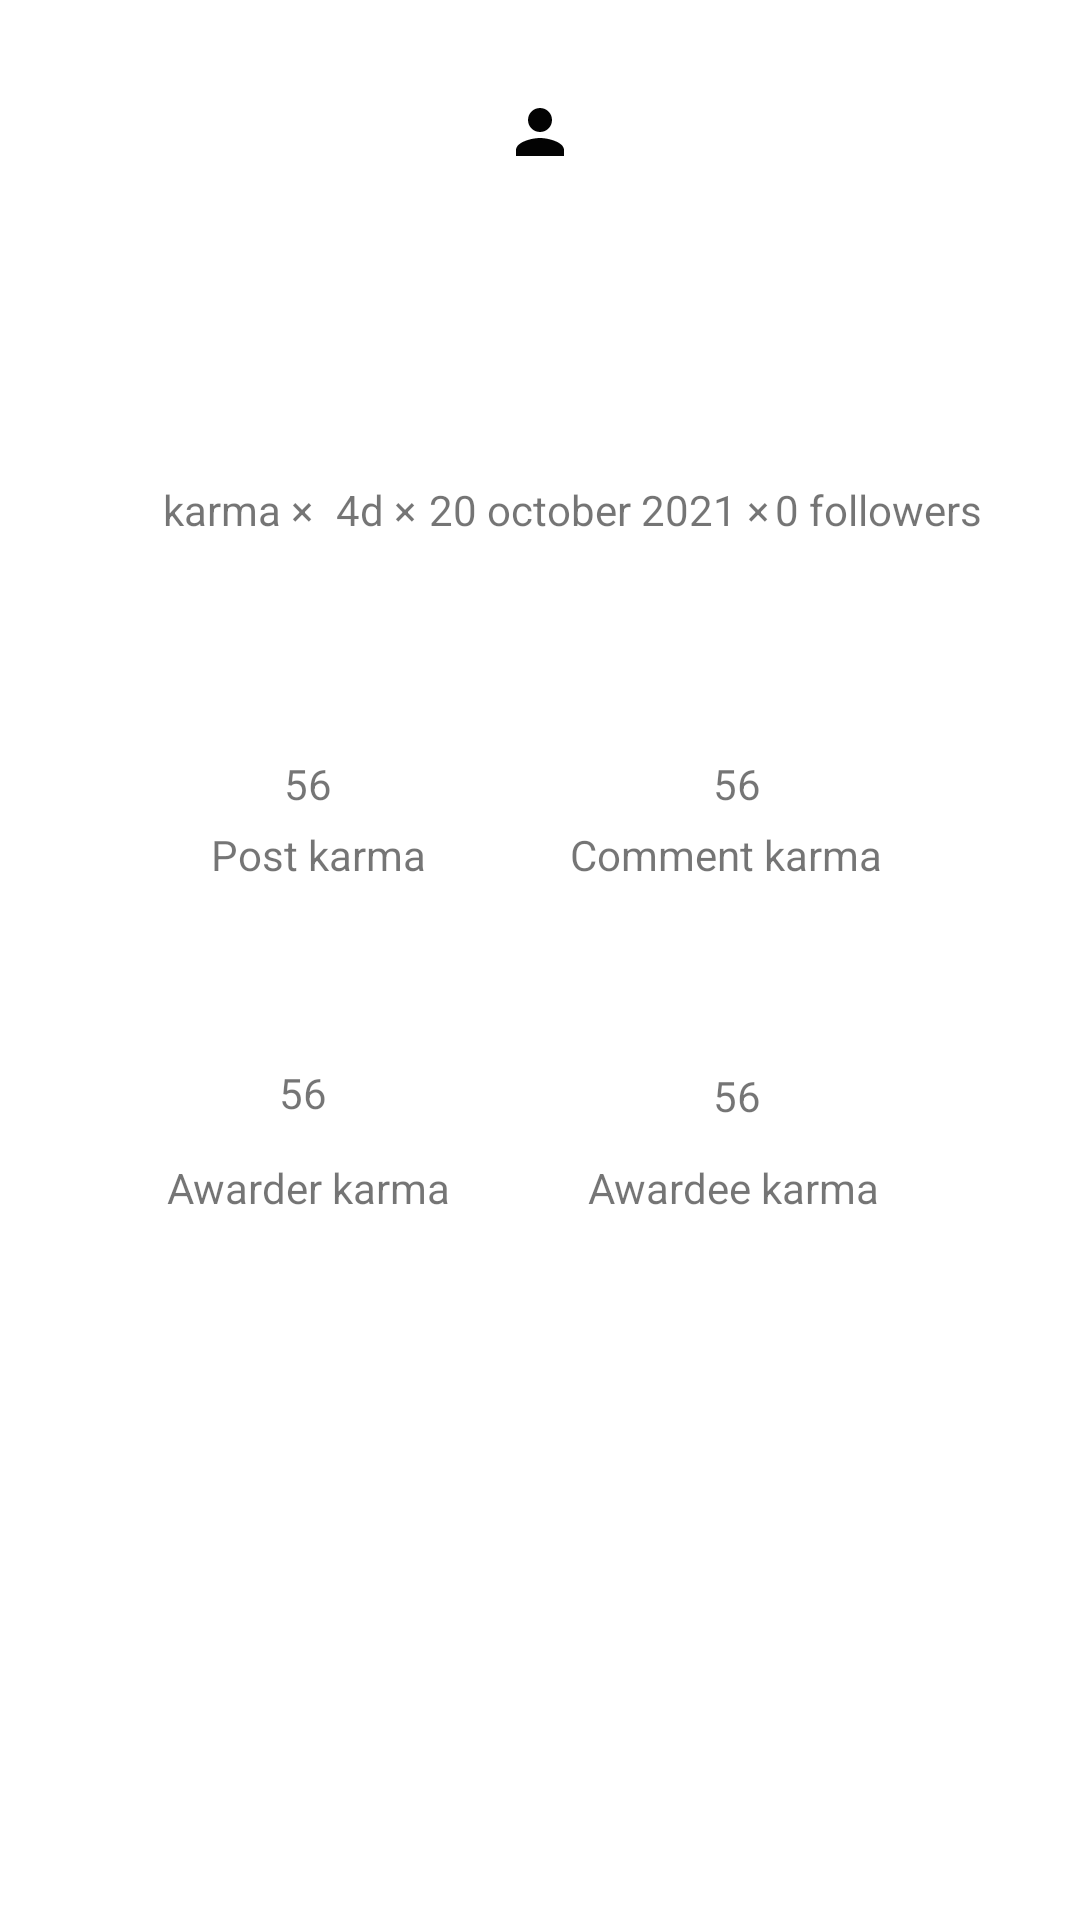

Named icons in this screenshot (1080x1920) and their bounding boxes, (x1, y1, x2, y2):
person: (516, 108, 564, 156)
